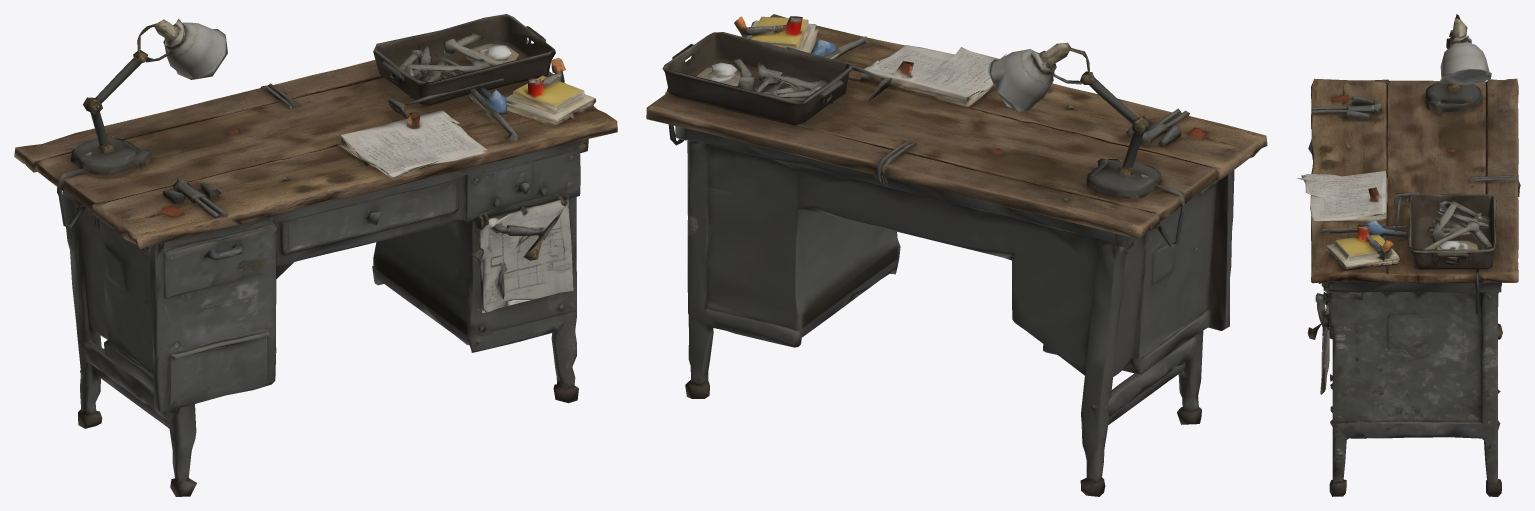
Rendered from research_table.glb.
3 renders of one model, left to right at view 1: azimuth 30°, elevation 25°; view 2: azimuth 150°, elevation 25°; view 3: azimuth 270°, elevation 25°, orthographic. The views are drawn at different scales.
Parts seen in each view (by area): view 1: research_table; view 2: research_table; view 3: research_table.
Part boxes in pixels (x1,y1,x2,y2): research_table: (14, 14, 617, 496); research_table: (646, 14, 1267, 496); research_table: (1297, 14, 1520, 496).
Size of the model in its own units: 1.2 by 0.962 by 0.5769.
Materials: 1 (1 with a texture image).
